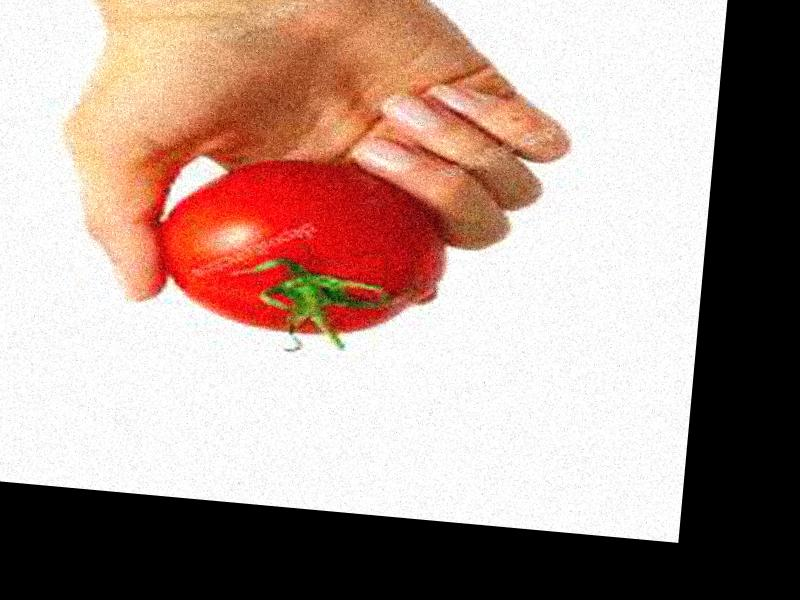Tomato: (154, 148, 447, 347)
